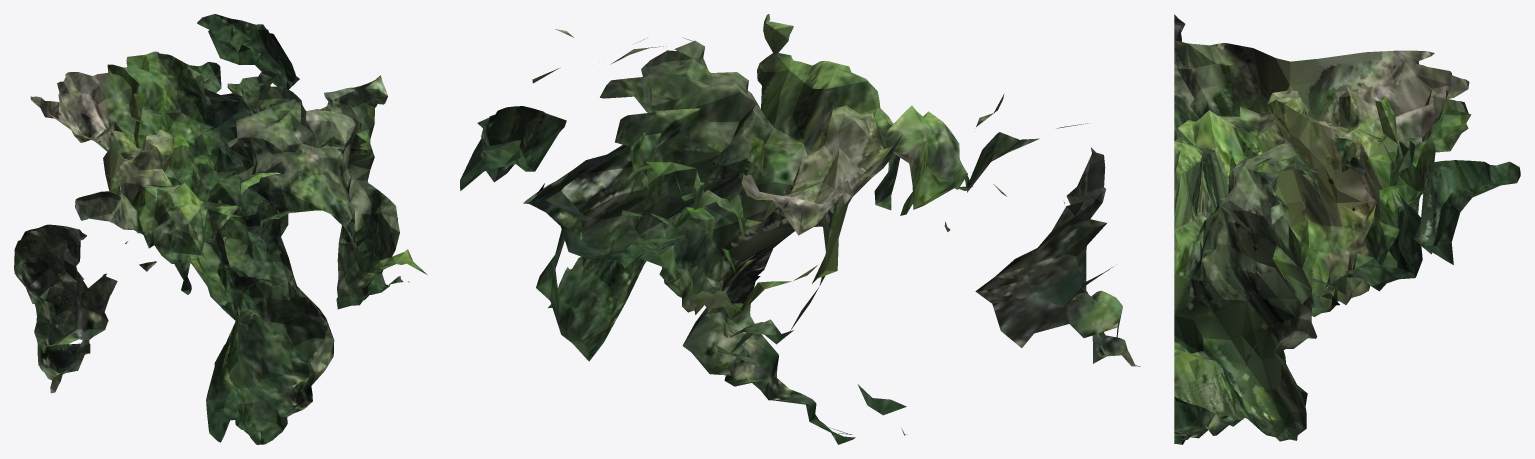
The picture shows the model from 3 angles, left to right: view 1: azimuth 30°, elevation 25°; view 2: azimuth 150°, elevation 25°; view 3: azimuth 270°, elevation 25°; orthographic projection. The views are drawn at different scales.
Size of the model in its own units: 26.11 by 19.08 by 18.27.
4 materials, 4 textured.
